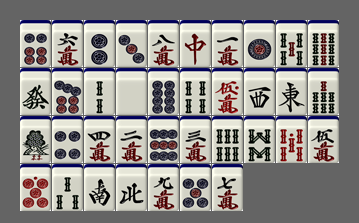0m: (212, 68, 243, 115)
0p: (20, 164, 51, 211)
0s: (276, 116, 307, 163)
1m: (212, 20, 243, 67)
1p: (244, 20, 275, 67)
1s: (20, 116, 51, 163)
1z: (276, 68, 307, 115)
2m: (116, 116, 147, 163)
2p: (84, 20, 115, 67)
2s: (84, 68, 115, 115)
2z: (84, 164, 115, 211)
3m: (180, 116, 211, 163)
3p: (116, 20, 147, 67)
3s: (52, 164, 83, 211)
3z: (244, 68, 275, 115)
4m: (84, 116, 115, 163)
4p: (52, 116, 83, 163)
4s: (180, 68, 211, 115)
4z: (116, 164, 147, 211)
5m: (308, 116, 339, 163)
5p: (180, 164, 211, 211)
5s: (276, 20, 307, 67)
5z: (116, 68, 147, 115)
6m: (52, 20, 83, 67)
6p: (20, 20, 51, 67)
6s: (212, 116, 243, 163)
6z: (20, 68, 51, 115)
7m: (212, 164, 243, 211)
7p: (52, 68, 83, 115)
7s: (308, 68, 339, 115)
7z: (180, 20, 211, 67)
8m: (148, 20, 179, 67)
8p: (148, 68, 179, 115)
8s: (244, 116, 275, 163)
9m: (148, 164, 179, 211)
9p: (148, 116, 179, 163)
9s: (308, 20, 339, 67)
